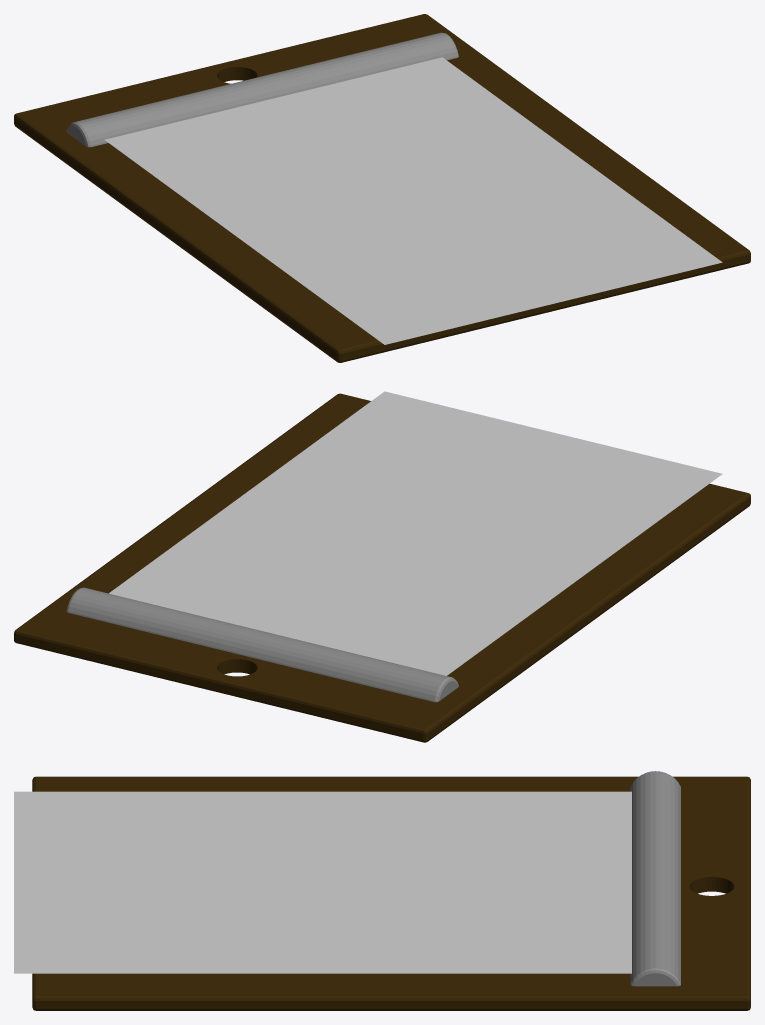
Rendered from Board.fbx.
3 views of the same model, one above another, from view 1: azimuth 30°, elevation 25°; view 2: azimuth 150°, elevation 25°; view 3: azimuth 270°, elevation 25° (orthographic). The views are drawn at different scales.
Visible parts, largest first — view 1: Circle; view 2: Circle; view 3: Circle.
Part boxes in pixels (box(x1,y1,x2,y2)): Circle: box(14, 14, 750, 362); Circle: box(14, 391, 750, 742); Circle: box(14, 771, 750, 1010).
Bounding box in the file's own units: 21.98 × 1.44 × 30.77.
